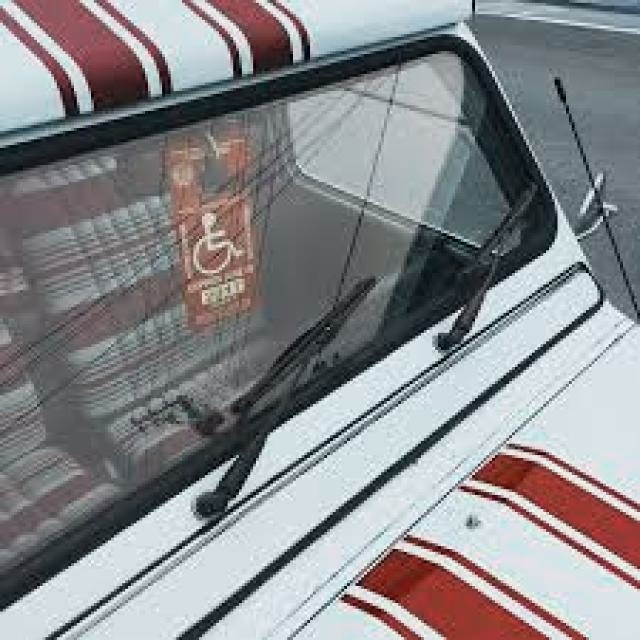ISA: (189, 211, 254, 281)
